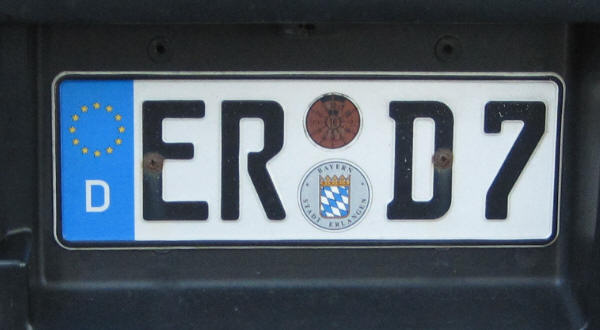license_plate: (51, 70, 565, 247)
